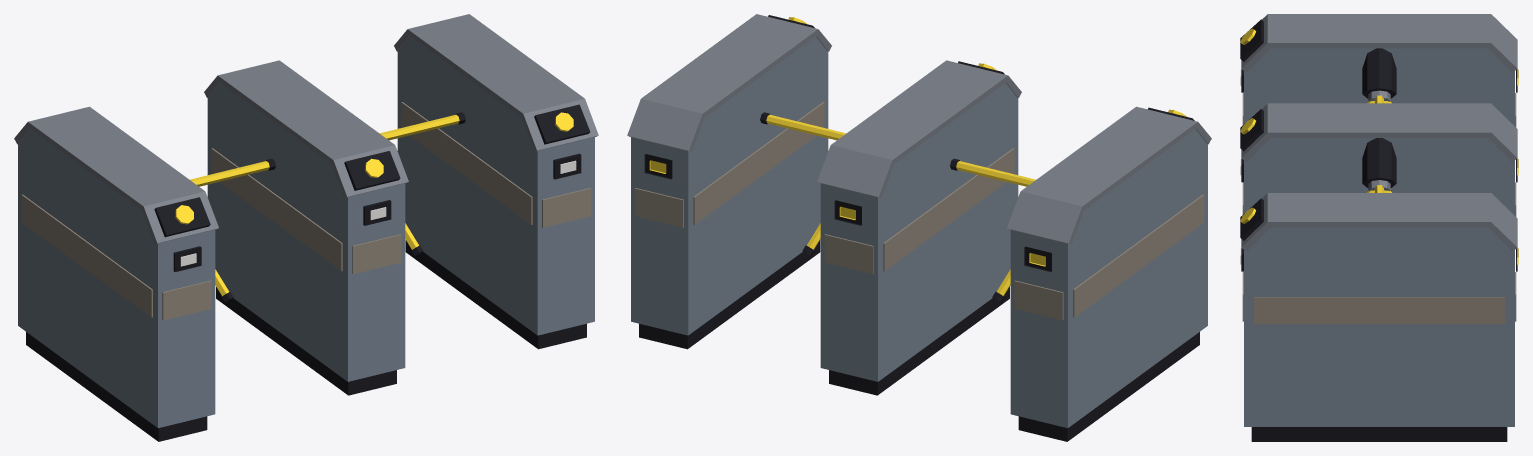
File: subway-turnstiles.glb
3 renders of one model, left to right at view 1: azimuth 30°, elevation 25°; view 2: azimuth 150°, elevation 25°; view 3: azimuth 270°, elevation 25°, orthographic. The views are drawn at different scales.
Parts seen in each view (by area): view 1: cabinets_steel, cabinets_mid_grey, livery_line_colour, plinths_soot_black, readers_soot_black, rotors_safety_yellow, readers_safety_yellow; view 2: cabinets_steel, cabinets_mid_grey, livery_line_colour, plinths_soot_black, rotors_safety_yellow, readers_soot_black, readers_safety_yellow; view 3: cabinets_steel, cabinets_mid_grey, livery_line_colour, plinths_soot_black, rotors_soot_black, readers_soot_black, readers_safety_yellow, rotors_mid_grey.
Part boxes in pixels (x1,y1,x2,y2): cabinets_steel: (18,36,594,428); cabinets_mid_grey: (14,14,598,244); livery_line_colour: (21,102,591,320); plinths_soot_black: (26,240,586,441); readers_soot_black: (154,104,590,271); rotors_safety_yellow: (190,114,459,296); readers_safety_yellow: (175,112,573,224); cabinets_steel: (631,36,1207,428); cabinets_mid_grey: (627,14,1211,244); livery_line_colour: (634,102,1204,320); plinths_soot_black: (639,240,1199,441); rotors_safety_yellow: (766,114,1035,296); readers_soot_black: (644,15,1194,271); readers_safety_yellow: (649,17,1186,266); cabinets_steel: (1244,48,1514,426); cabinets_mid_grey: (1241,14,1517,250); livery_line_colour: (1242,93,1516,324); plinths_soot_black: (1251,427,1507,441); rotors_soot_black: (1362,48,1396,187); readers_soot_black: (1240,19,1517,271); readers_safety_yellow: (1240,28,1518,264); rotors_mid_grey: (1368,90,1390,191).
Bounding box in the file's own units: 2 × 1 × 1.13.
